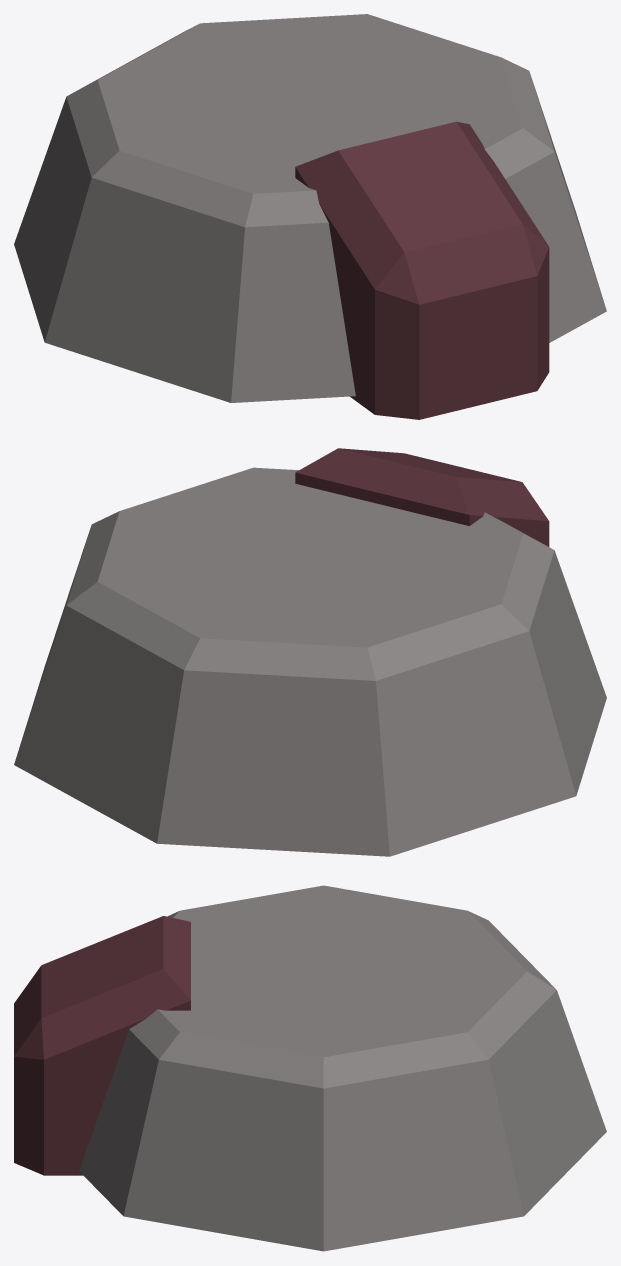
Rendered from scifi-scifi-turret-base-circle-one-small.glb.
The picture shows the model from 3 angles, top to bottom: view 1: azimuth 30°, elevation 25°; view 2: azimuth 150°, elevation 25°; view 3: azimuth 270°, elevation 25°; orthographic projection. The views are drawn at different scales.
Parts seen in each view (by area): view 1: scifi-turret-base-circle-one-small; view 2: scifi-turret-base-circle-one-small; view 3: scifi-turret-base-circle-one-small.
Boxes of the visible parts, x1,y1,x2,y2 form: scifi-turret-base-circle-one-small: (14, 14, 606, 419); scifi-turret-base-circle-one-small: (14, 448, 606, 856); scifi-turret-base-circle-one-small: (14, 885, 606, 1251).
Size of the model in its own units: 1.28 by 0.4835 by 1.34.
